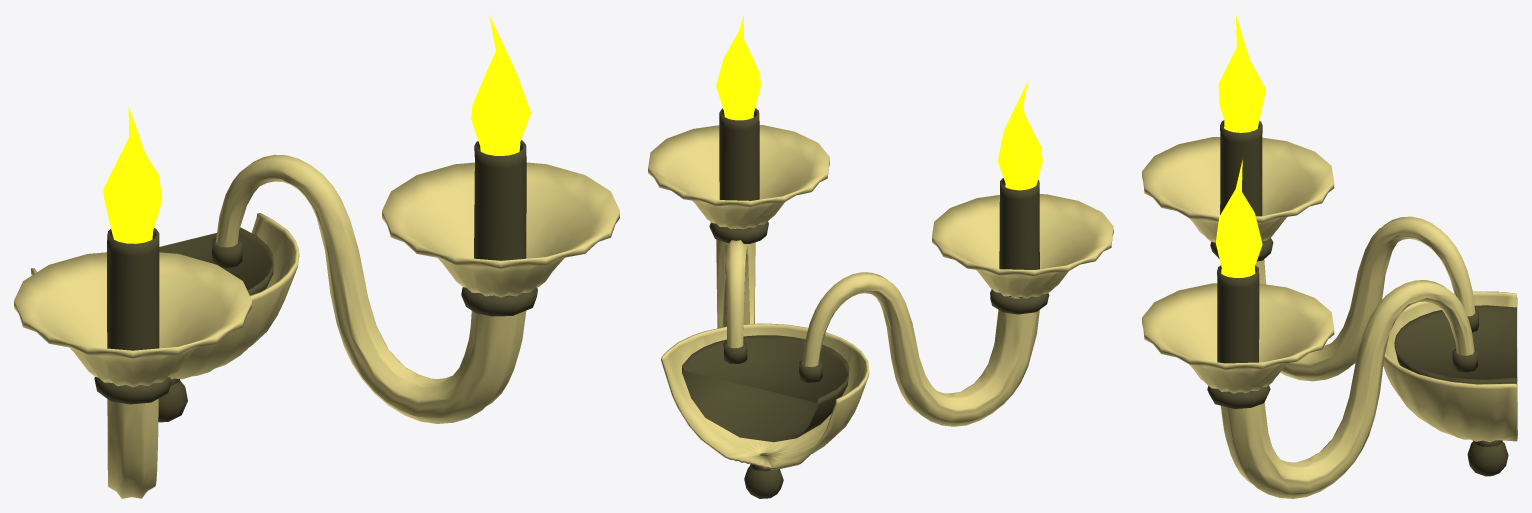
The model's file is lamp002.fbx.
The picture shows the model from 3 angles, left to right: view 1: azimuth 30°, elevation 25°; view 2: azimuth 150°, elevation 25°; view 3: azimuth 270°, elevation 25°; orthographic projection. The views are drawn at different scales.
Parts seen in each view (by area): view 1: Lamp; view 2: Lamp; view 3: Lamp.
Part boxes in pixels (<box>): Lamp: <box>14,14,619,498</box>; Lamp: <box>648,15,1113,498</box>; Lamp: <box>1142,14,1517,498</box>.
Bounding box in the file's own units: 44.35 × 35.08 × 30.97.
